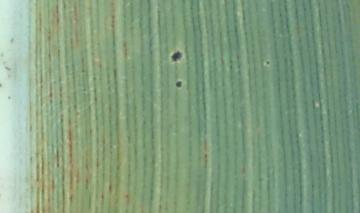tarspot: (169, 49, 184, 64), (174, 78, 183, 90), (2, 65, 12, 72), (106, 182, 113, 192), (99, 191, 106, 201), (8, 36, 15, 45), (4, 94, 12, 101), (203, 151, 209, 160), (1, 49, 6, 59), (264, 59, 270, 66), (1, 81, 3, 90)
